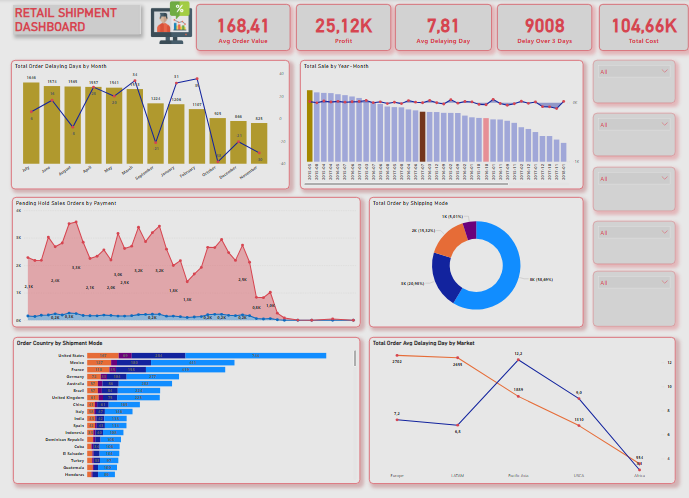

The dashboard page shown, as its layout file describes it:
{"tool":"powerbi","page":{"name":"Shipment","canvas":[2010,1450],"ordinal":6},"visuals":[{"type":"textbox","title":"RETAIL SHIPMENT  DASHBOARD","box":[40.7,18.5,370.4,85.2],"z":0},{"type":"card","fields":{"Values":["_measures.Avg Order Value"]},"box":[571.4,14.3,273.8,135.7],"z":1000},{"type":"card","fields":{"Values":["_measures.Profit"]},"box":[861.9,14.3,276.2,135.7],"z":2000},{"type":"card","fields":{"Values":["_measures.Avg Delaying Day"]},"box":[1147.6,14.3,281,135.7],"z":3000},{"type":"card","fields":{"Values":["_measures.Delay Over 3 Days"]},"box":[1445.2,14.3,276.2,135.7],"z":4000},{"type":"slicer","fields":{"Values":["income_2024.category_name"]},"box":[1722.2,330.6,238.9,125],"z":5000},{"type":"slicer","fields":{"Values":["income_2024.order_country"]},"box":[1722.2,486.1,238.9,127.8],"z":6000},{"type":"slicer","fields":{"Values":["income_2024.customer_segment"]},"box":[1722.2,644.4,238.9,125],"z":7000},{"type":"slicer","fields":{"Values":["Calendar.Year"]},"box":[1722.2,177.8,238.9,125],"z":8000},{"type":"slicer","fields":{"Values":["income_2024.order_region"]},"box":[1722.2,788.9,238.9,161.1],"z":9000},{"type":"lineClusteredColumnComboChart","title":"Total Order Delaying Days by Month ","fields":{"Category":["Calendar.Month Name"],"Y":["_measures.Total Order"],"Y2":["_measures.Avg Delaying Day"]},"box":[36.1,177.8,808.3,375],"z":10000},{"type":"stackedAreaChart","title":"Pending Hold Sales Orders by Payment","fields":{"Y":["income_2024.Pending Hold Orders","income_2024.Pending Hold Sales"],"Category":["income_2024.Shipping Date.Variation.Date Hierarchy.Year","income_2024.Shipping Date.Variation.Date Hierarchy.Month"]},"box":[37,574.1,1011.1,377.8],"z":11000},{"type":"lineChart","title":"Total Sale by Year-Month","fields":{"Category":["Calendar.Year-Month"],"Y":["income_2024.total_sales","_measures.Avg Delaying Day"]},"box":[872.2,177.8,822.2,375],"z":12000},{"type":"card","fields":{"Values":["_measures.Total Cost"]},"box":[1740.5,14.3,259.5,135.7],"z":13000},{"type":"donutChart","title":"Total Order by Shipping Mode","fields":{"Category":["income_2024.shipping_mode"],"Y":["_measures.Total Order"]},"box":[1074.1,574.1,622.2,377.8],"z":14000},{"type":"barChart","title":"Order Country by Shipment Mode","fields":{"Category":["income_2024.order_country"],"Y":["_measures.Total Order"],"Series":["income_2024.shipping_mode"]},"box":[40.7,981.5,1007.4,425.9],"z":15000},{"type":"image","box":[307.4,0,385.2,137],"z":16000},{"type":"lineChart","title":"Total Order Avg Delaying Day by Market ","fields":{"Category":["income_2024.market"],"Y":["_measures.Total Order"],"Y2":["_measures.Avg Delaying Day"]},"box":[1074.1,981.5,888.9,425.9],"z":17000}]}

Visuals, with their boxes in screenshot pixels (x1, y1, x2, y2), scaled from the page's 2010x1450 canvas onto the 689x498 screenshot:
"RETAIL SHIPMENT  DASHBOARD" textbox: pyautogui.locateOnScreen(14, 6, 141, 36)
card - _measures.Avg Order Value: pyautogui.locateOnScreen(196, 5, 290, 52)
card - _measures.Profit: pyautogui.locateOnScreen(295, 5, 390, 52)
card - _measures.Avg Delaying Day: pyautogui.locateOnScreen(393, 5, 490, 52)
card - _measures.Delay Over 3 Days: pyautogui.locateOnScreen(495, 5, 590, 52)
slicer - income_2024.category_name: pyautogui.locateOnScreen(590, 114, 672, 156)
slicer - income_2024.order_country: pyautogui.locateOnScreen(590, 167, 672, 211)
slicer - income_2024.customer_segment: pyautogui.locateOnScreen(590, 221, 672, 264)
slicer - Calendar.Year: pyautogui.locateOnScreen(590, 61, 672, 104)
slicer - income_2024.order_region: pyautogui.locateOnScreen(590, 271, 672, 326)
"Total Order Delaying Days by Month " lineClusteredColumnComboChart: pyautogui.locateOnScreen(12, 61, 289, 190)
"Pending Hold Sales Orders by Payment" stackedAreaChart: pyautogui.locateOnScreen(13, 197, 359, 327)
"Total Sale by Year-Month" lineChart: pyautogui.locateOnScreen(299, 61, 581, 190)
card - _measures.Total Cost: pyautogui.locateOnScreen(597, 5, 686, 52)
"Total Order by Shipping Mode" donutChart: pyautogui.locateOnScreen(368, 197, 581, 327)
"Order Country by Shipment Mode" barChart: pyautogui.locateOnScreen(14, 337, 359, 483)
image: pyautogui.locateOnScreen(105, 0, 237, 47)
"Total Order Avg Delaying Day by Market " lineChart: pyautogui.locateOnScreen(368, 337, 673, 483)
